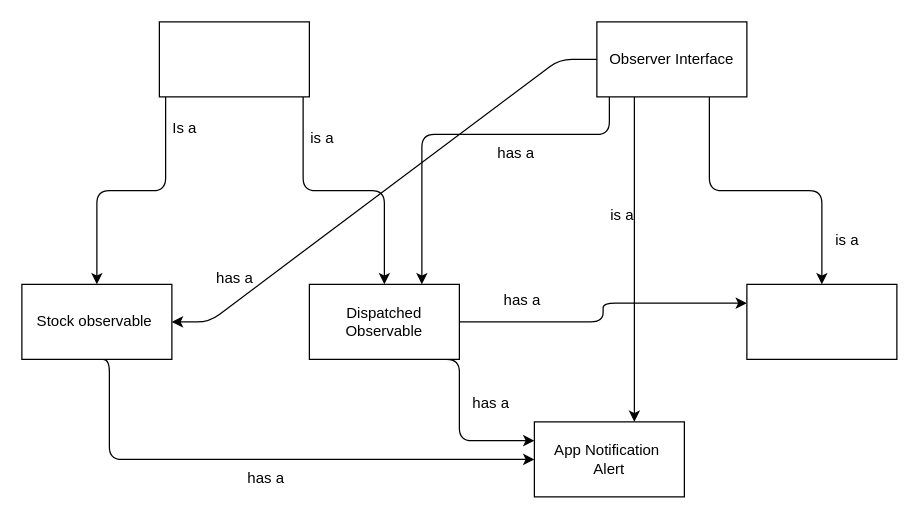
This 919x519 diagram has some shape labels left out. The shapes that lost their labels are listed below. From the top down, each one's centre as x and y in pixels, then its label:
At (x=233, y=59): "Observable Interface".
At (x=821, y=321): "Email Notification Alert".
